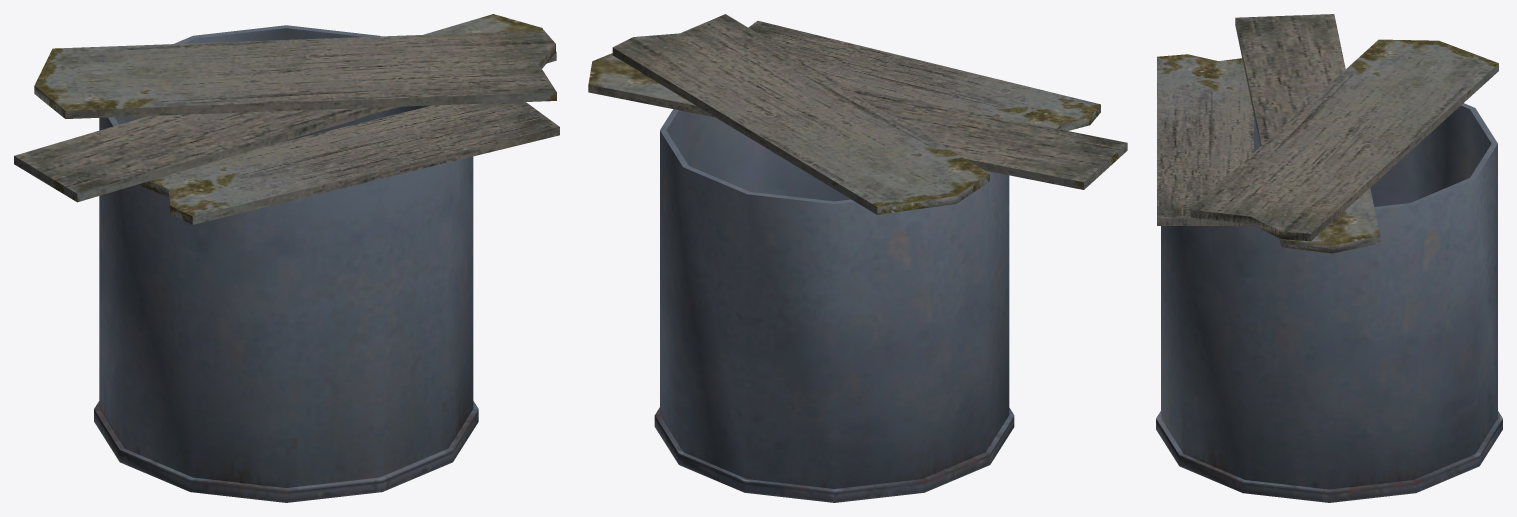
File: Prop_T01.glb
3 renders of one model, left to right at view 1: azimuth 30°, elevation 25°; view 2: azimuth 150°, elevation 25°; view 3: azimuth 270°, elevation 25°, orthographic. The views are drawn at different scales.
Parts seen in each view (by area): view 1: xiutz_t_01; view 2: xiutz_t_01; view 3: xiutz_t_01.
Part boxes in pixels (bbox=[...]): xiutz_t_01: bbox=[14, 14, 559, 502]; xiutz_t_01: bbox=[588, 14, 1127, 502]; xiutz_t_01: bbox=[1156, 14, 1502, 502].
Size of the model in its own units: 1.39 by 0.8544 by 0.8806.
Materials: 1 (1 with a texture image).
